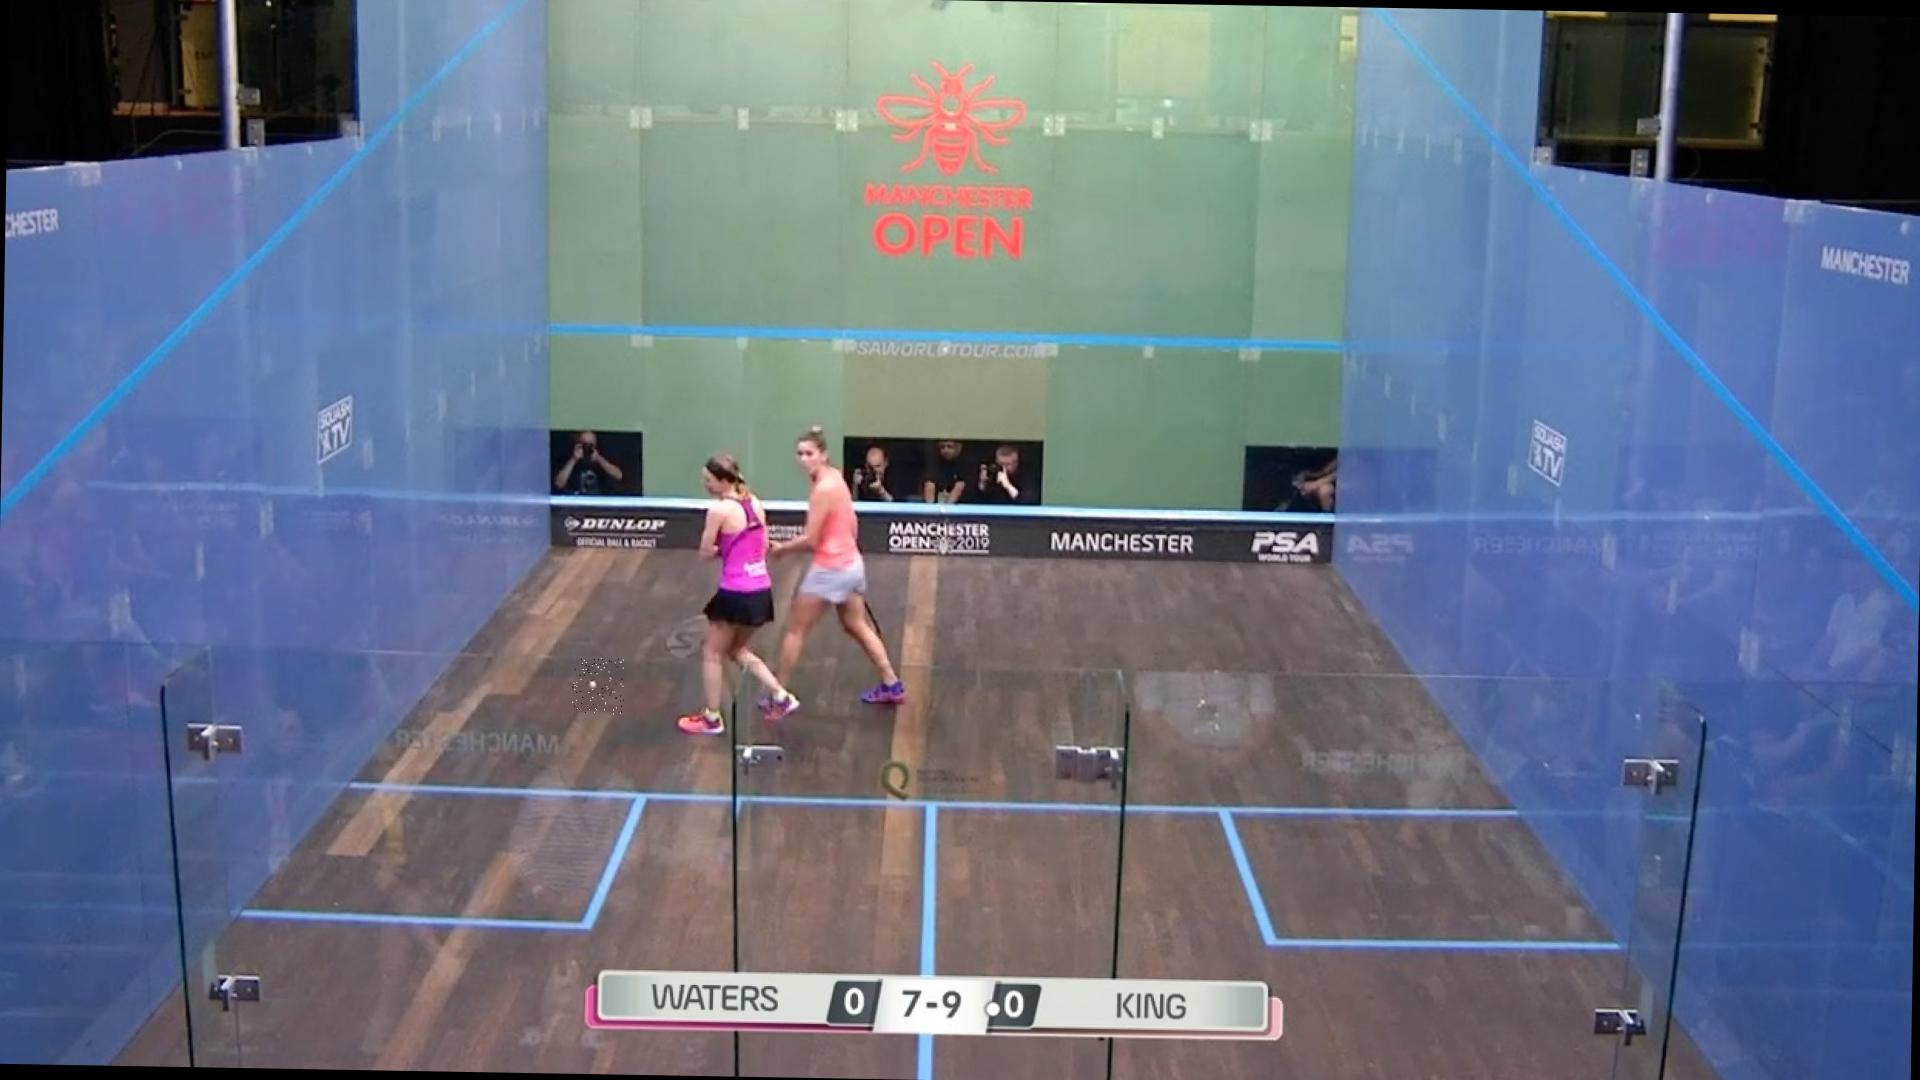Squash-Ball: (572, 655, 625, 713)
